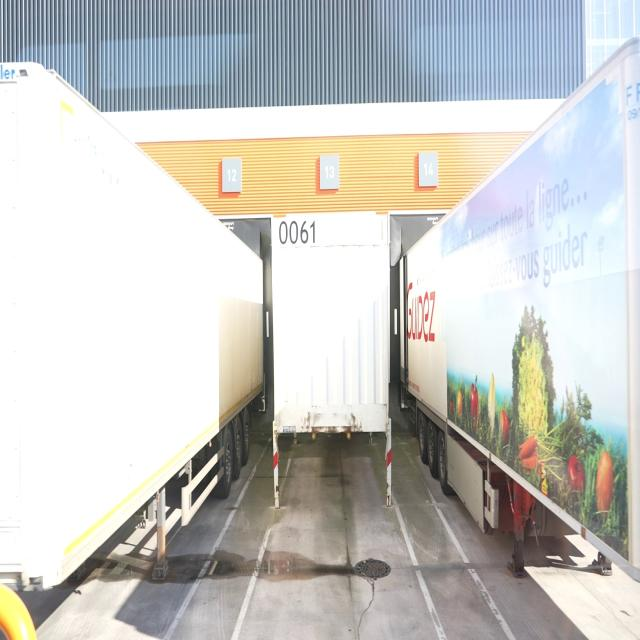Code: (276, 215, 318, 251)
